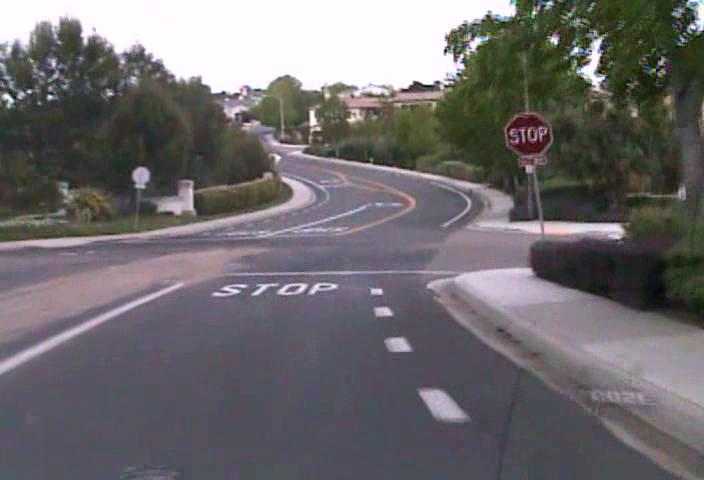stop: (504, 111, 553, 157)
